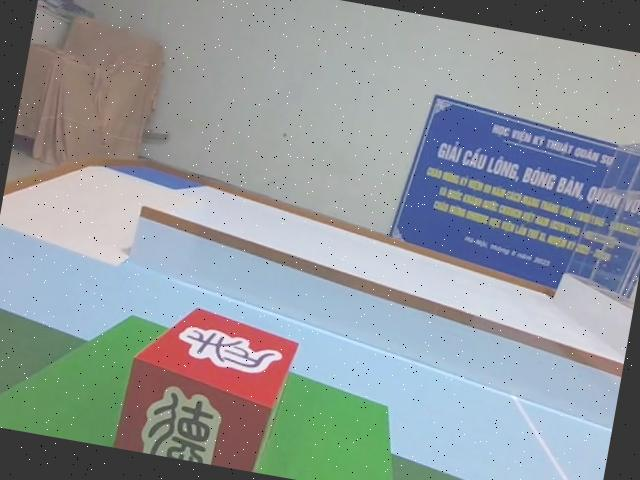R2 Fake: (111, 292, 304, 476)
